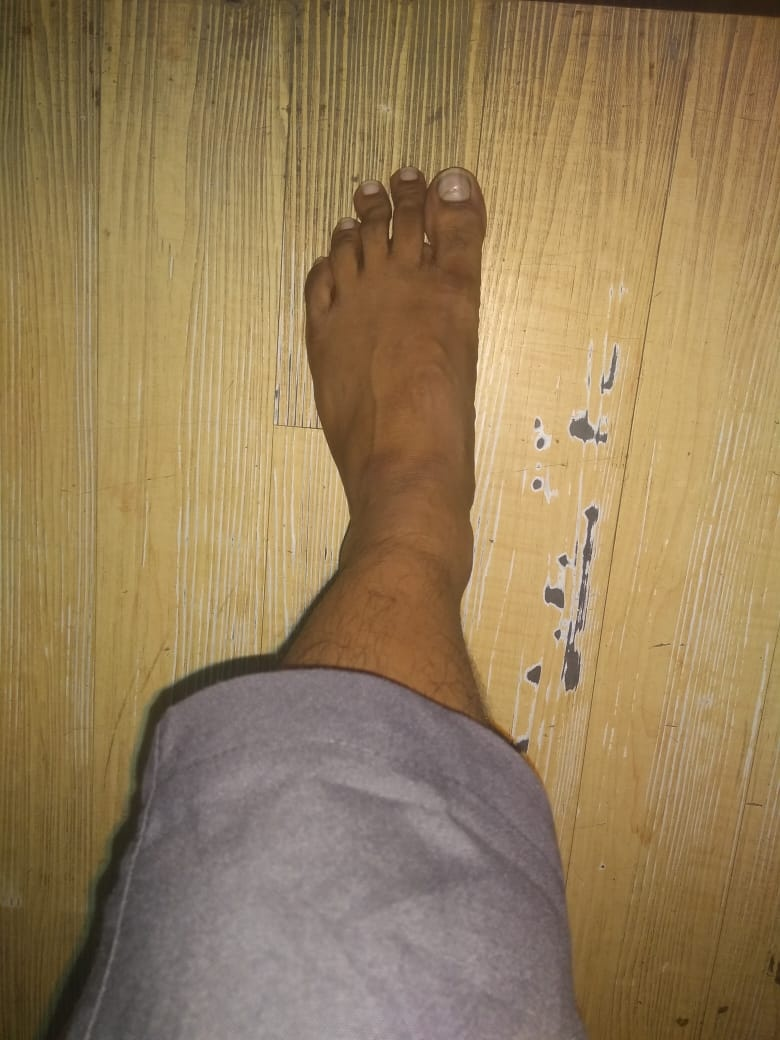feet: (234, 152, 502, 588)
